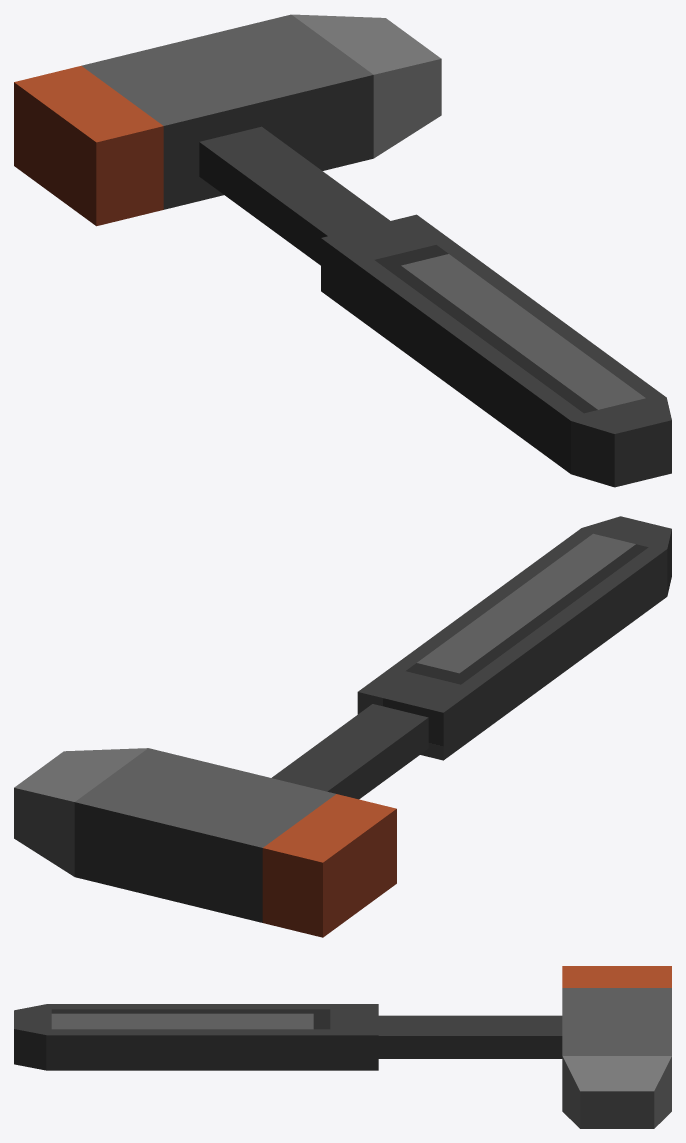
Rendered from CR_Tool_Hammer.fbx.
3 renders of one model, top to bottom at view 1: azimuth 30°, elevation 25°; view 2: azimuth 150°, elevation 25°; view 3: azimuth 270°, elevation 25°, orthographic. The views are drawn at different scales.
Visible parts, largest first — view 1: CR_Tool_Hammer; view 2: CR_Tool_Hammer; view 3: CR_Tool_Hammer.
Part boxes in pixels (x1,y1,x2,y2): CR_Tool_Hammer: (14, 14, 671, 487); CR_Tool_Hammer: (14, 516, 671, 937); CR_Tool_Hammer: (14, 966, 671, 1128).
Size of the model in its own units: 0.2043 by 0.0456 by 0.4887.
